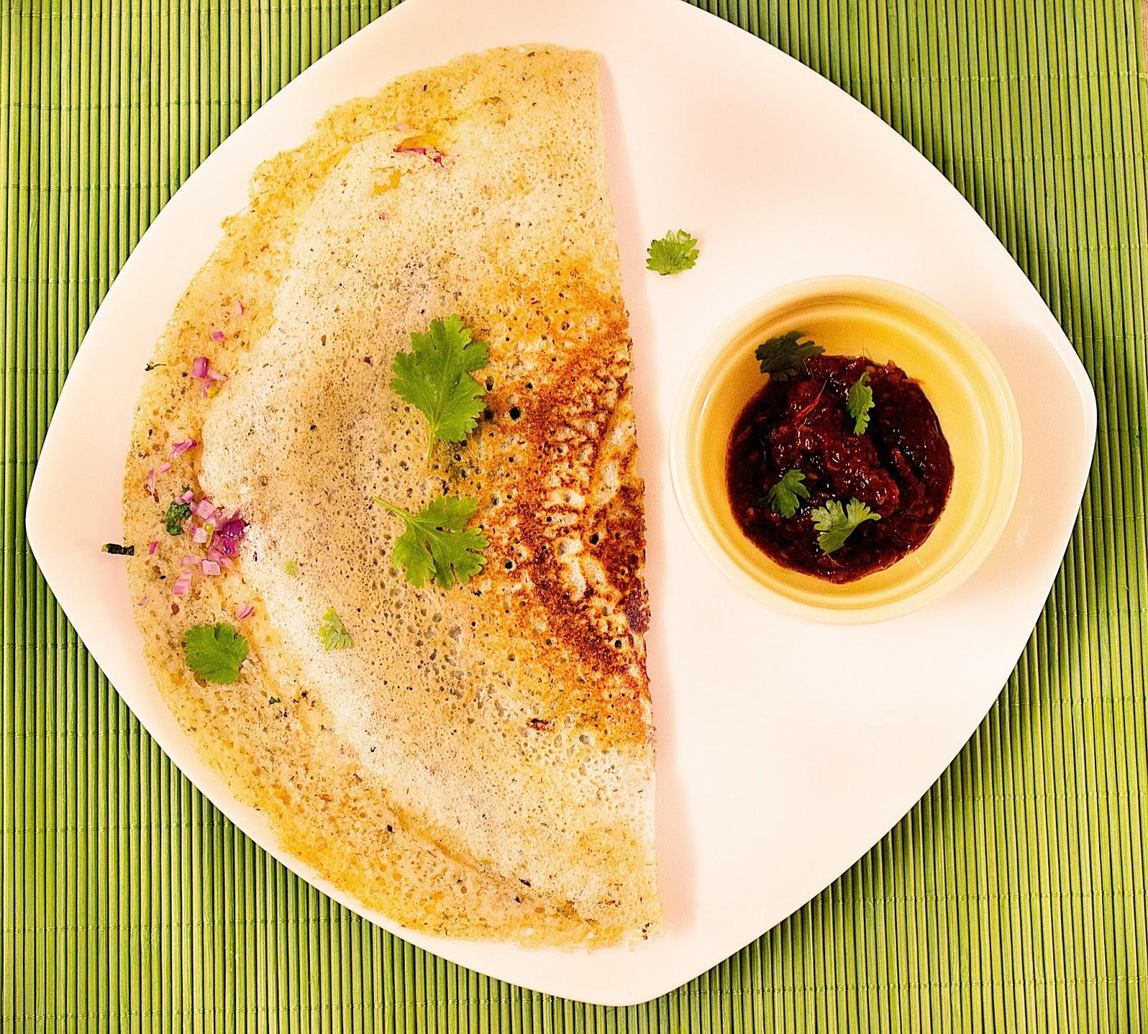Dosa: (116, 42, 665, 951)
